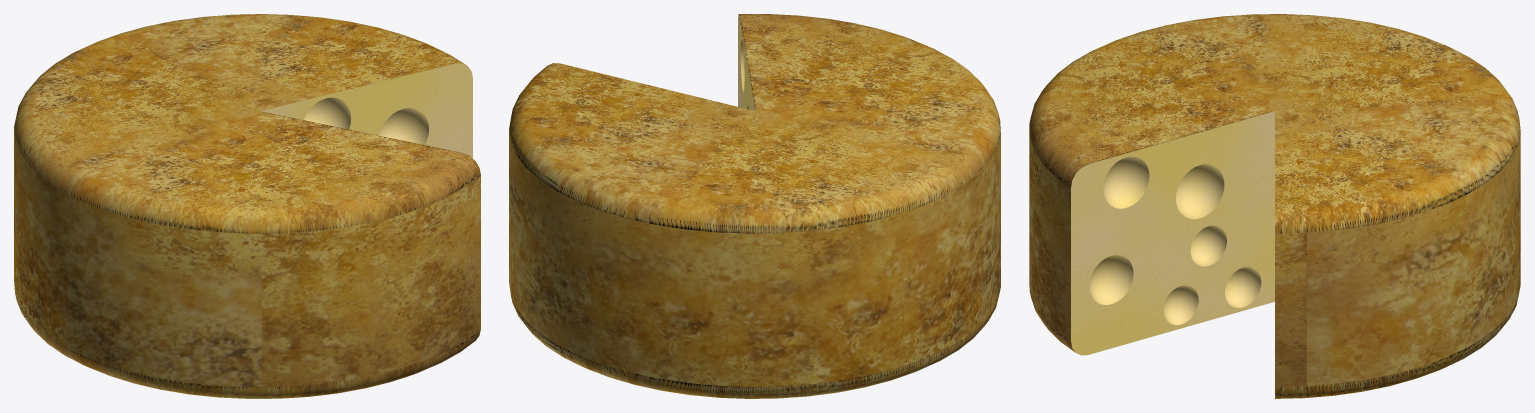
Rendered from Queso.FBX.
3 renders of one model, left to right at view 1: azimuth 30°, elevation 25°; view 2: azimuth 150°, elevation 25°; view 3: azimuth 270°, elevation 25°, orthographic.
Parts seen in each view (by area): view 1: Cheese; view 2: Cheese; view 3: Cheese.
Part boxes in pixels (x1,y1,x2,y2): Cheese: (14, 14, 480, 398); Cheese: (509, 14, 1000, 398); Cheese: (1029, 14, 1520, 398).
Bounding box in the file's own units: 1521 × 651 × 1521.
Materials: 1 (1 with a texture image).
